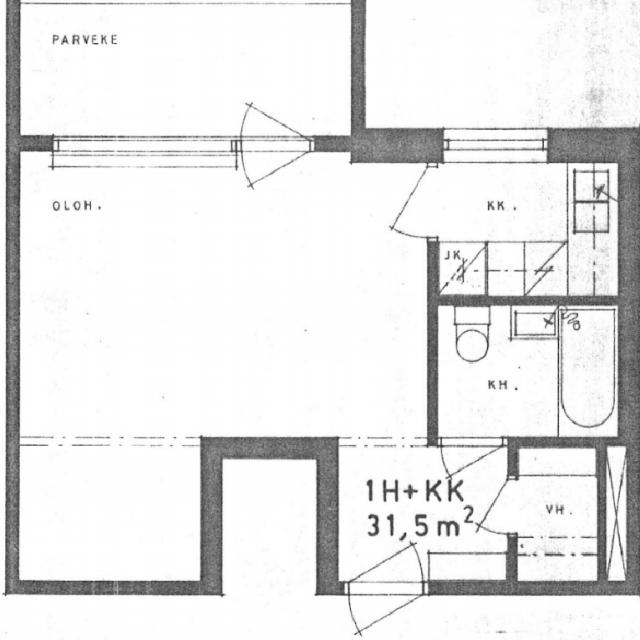door: (348, 506, 422, 594), (357, 166, 436, 238), (241, 67, 309, 150), (241, 137, 309, 219), (440, 437, 502, 509), (453, 478, 516, 534)
